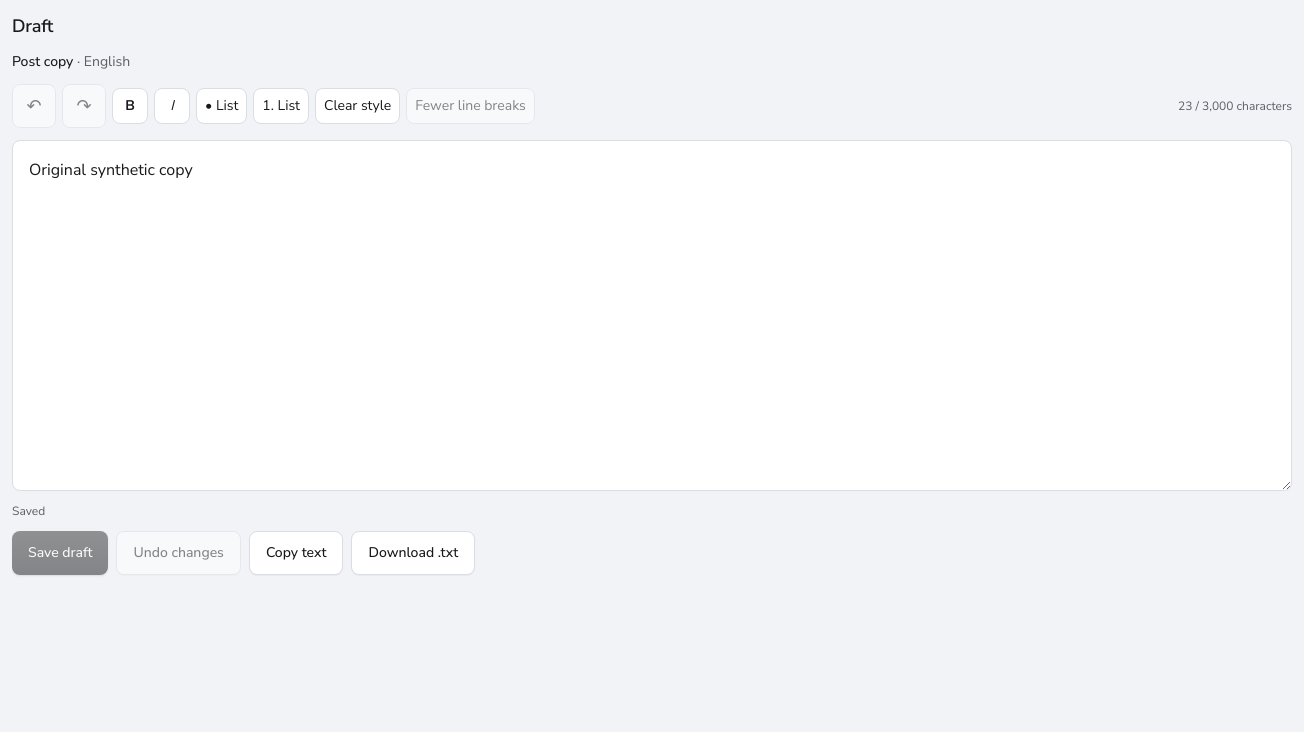
Test: PostEditor save notification (CS-050) › does not claim an export was queued for an unchanged database body
The image size is (1304, 732).
Replace the text in the text box with "Synthetic copy already present" at point(652, 315), box [12, 140, 1292, 491]
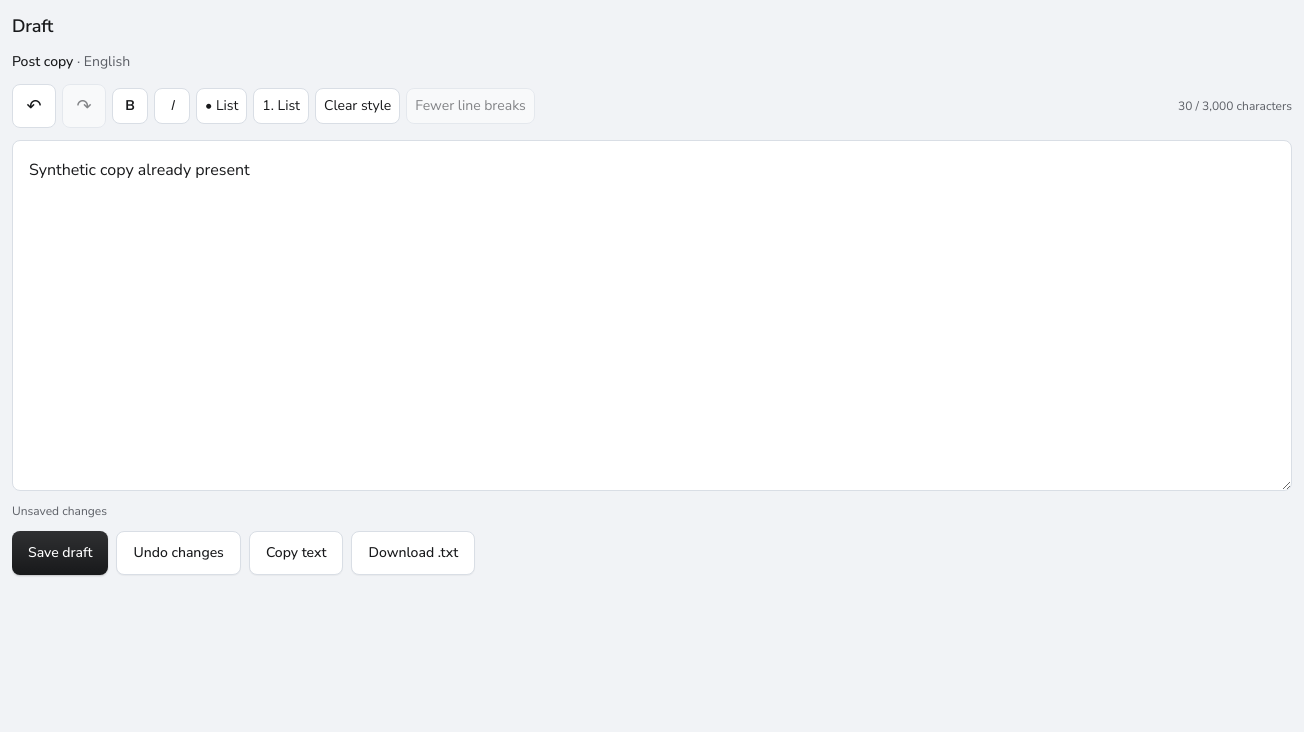
Click the button "Save draft" at point(60, 553), box [12, 531, 108, 575]
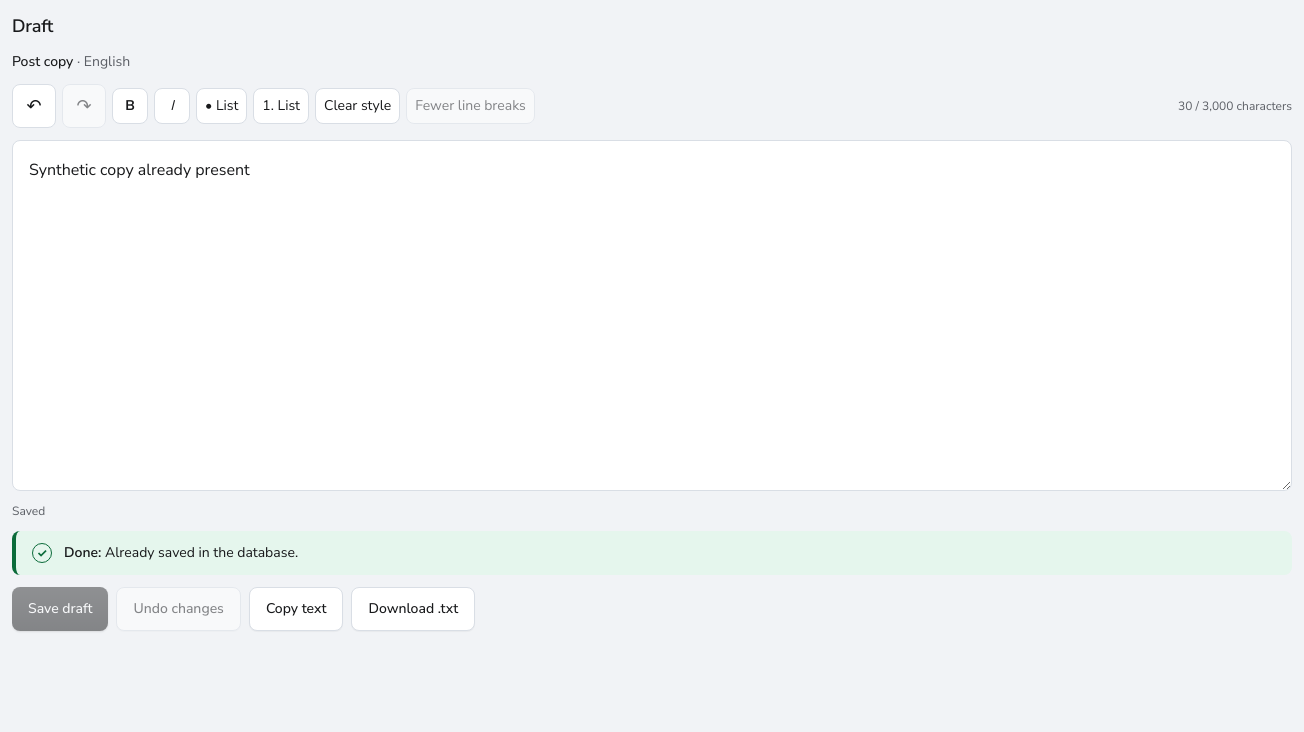
Check: the text "Already saved in the database." is shown, box [105, 543, 298, 562]
